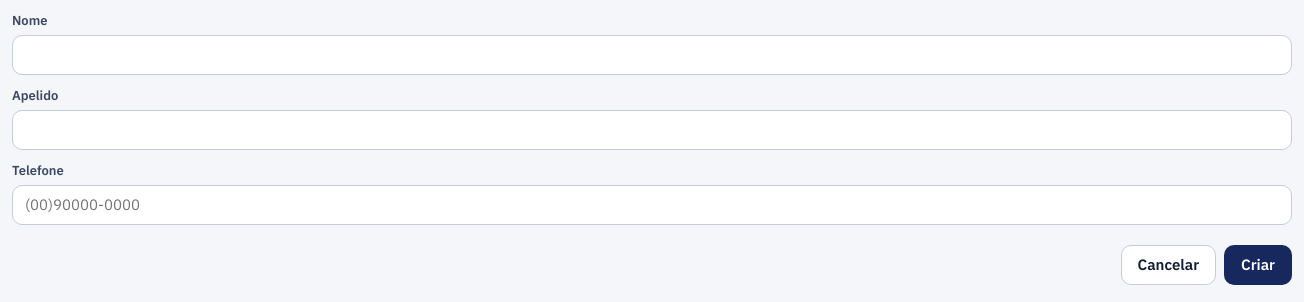
FormularioCliente › mostra a máscara enquanto digita
In the field labelled "Telefone": (652, 204) [12,184,1292,224], type "11912345"
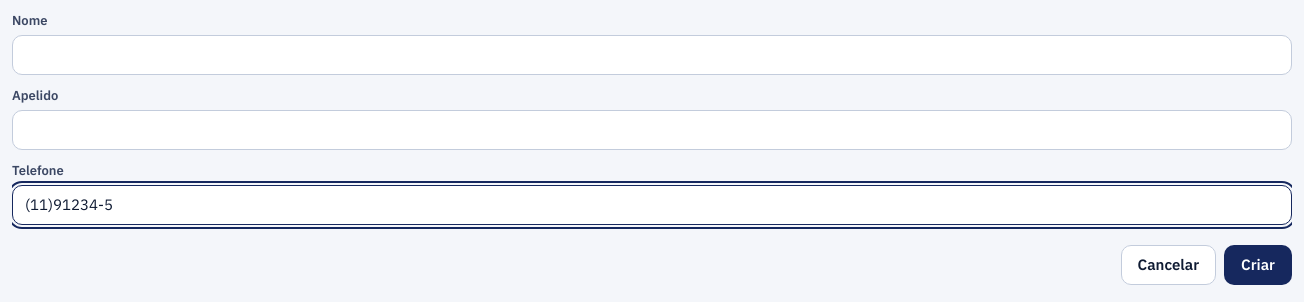
expect the field labelled "Telefone" holds "(11)91234-5": met, box [12,184,1292,224]
